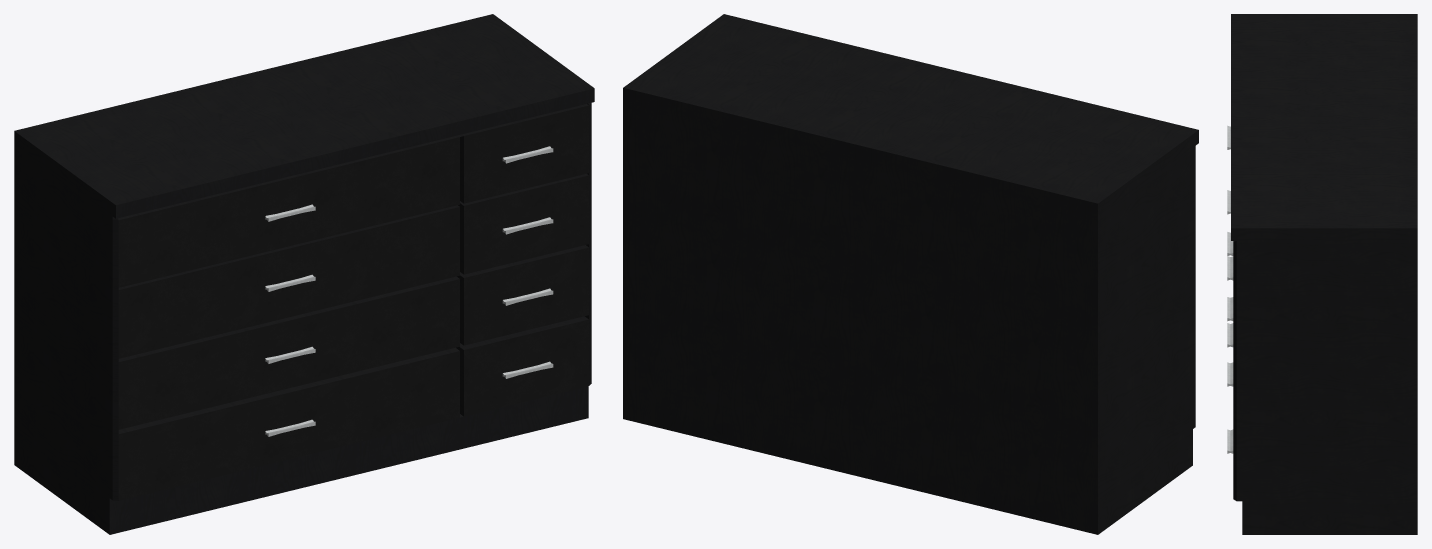
Rendered from chest_of_drawers.glb.
3 renders of one model, left to right at view 1: azimuth 30°, elevation 25°; view 2: azimuth 150°, elevation 25°; view 3: azimuth 270°, elevation 25°, orthographic. The views are drawn at different scales.
Parts seen in each view (by area): view 1: polySurface63; view 2: polySurface63; view 3: polySurface63.
Boxes of the visible parts, x1,y1,x2,y2 form: polySurface63: [14, 14, 594, 534]; polySurface63: [623, 14, 1198, 534]; polySurface63: [1231, 14, 1417, 534].
Bounding box in the file's own units: 0.0405 × 0.027 × 0.0152.
Materials: 3 (3 with a texture image).
